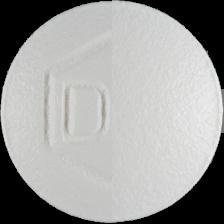0093-5423: (0, 0, 224, 224)
